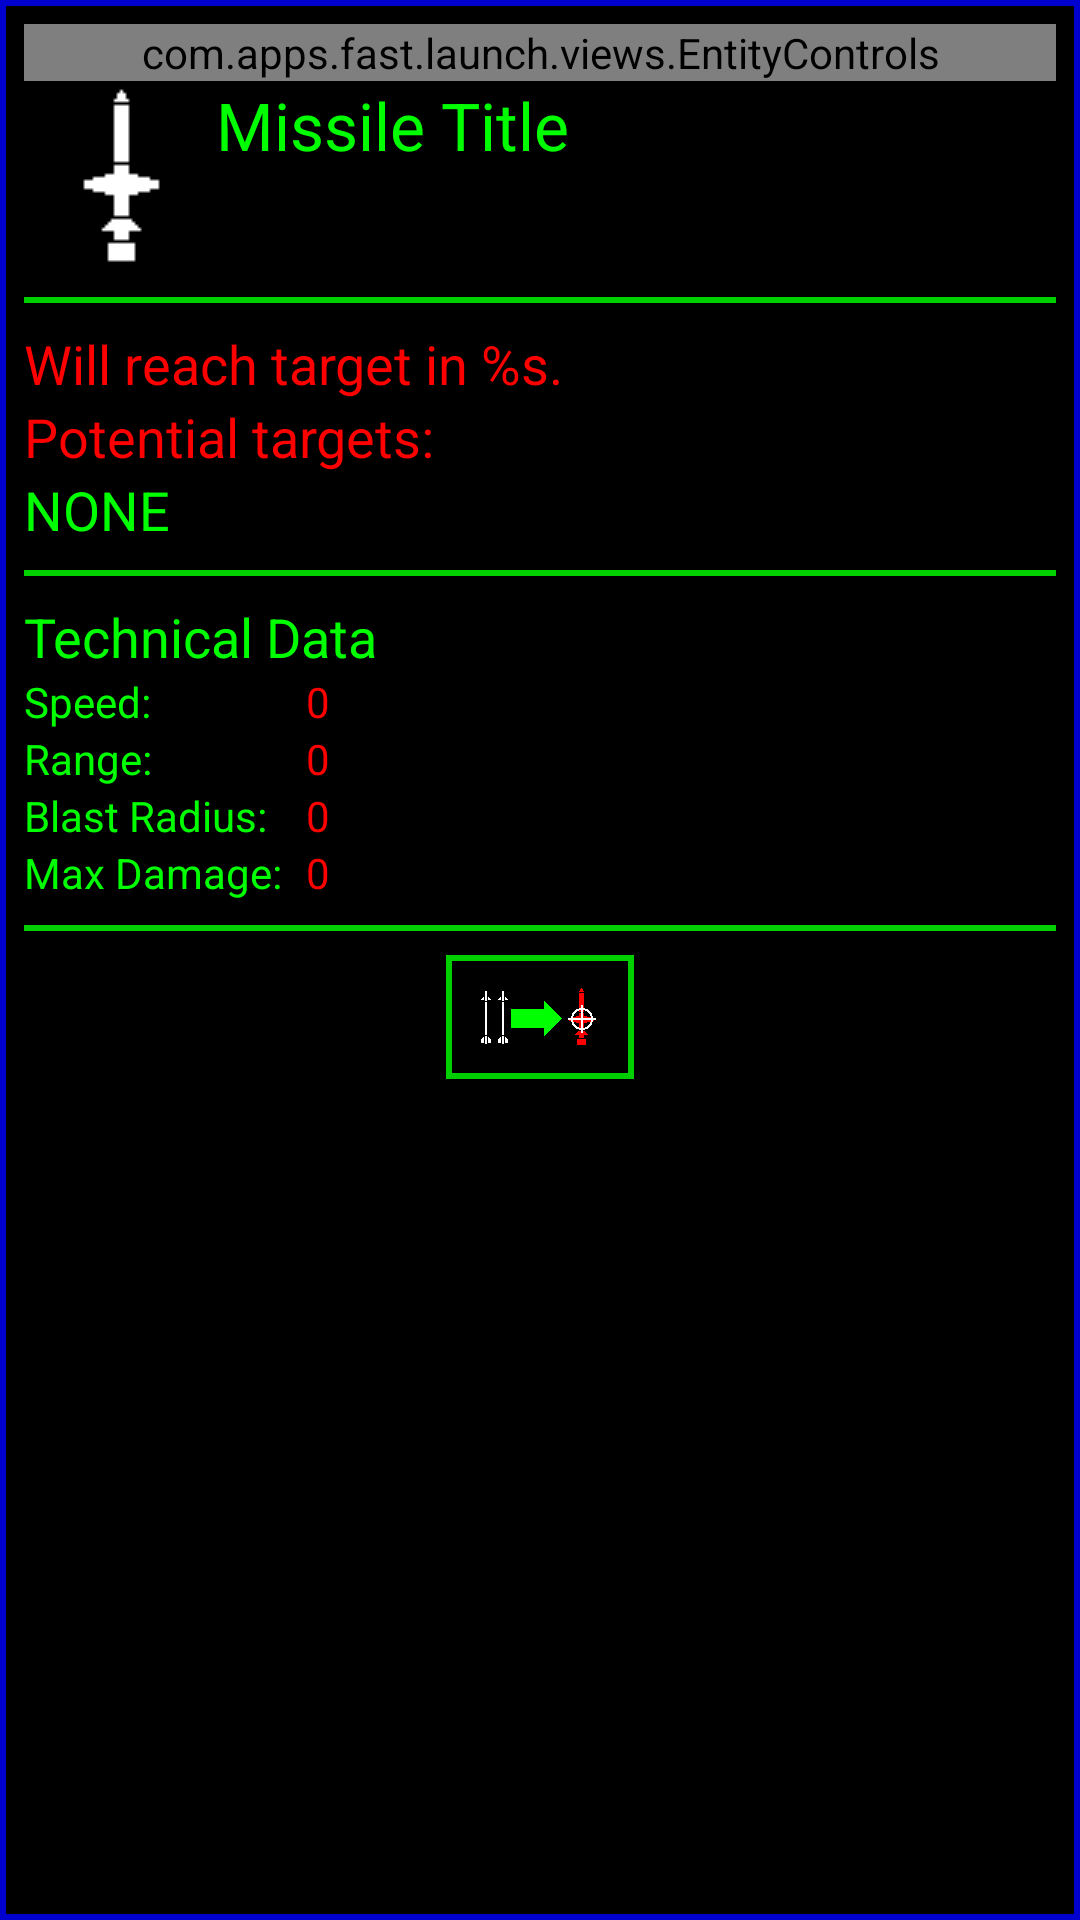

Icons on this 1080 x 1920 Android screen, each with its box as bbox(x1, y1, x2, y2):
interceptor target: bbox(446, 955, 634, 1079)
marker missile: bbox(83, 89, 160, 262)
